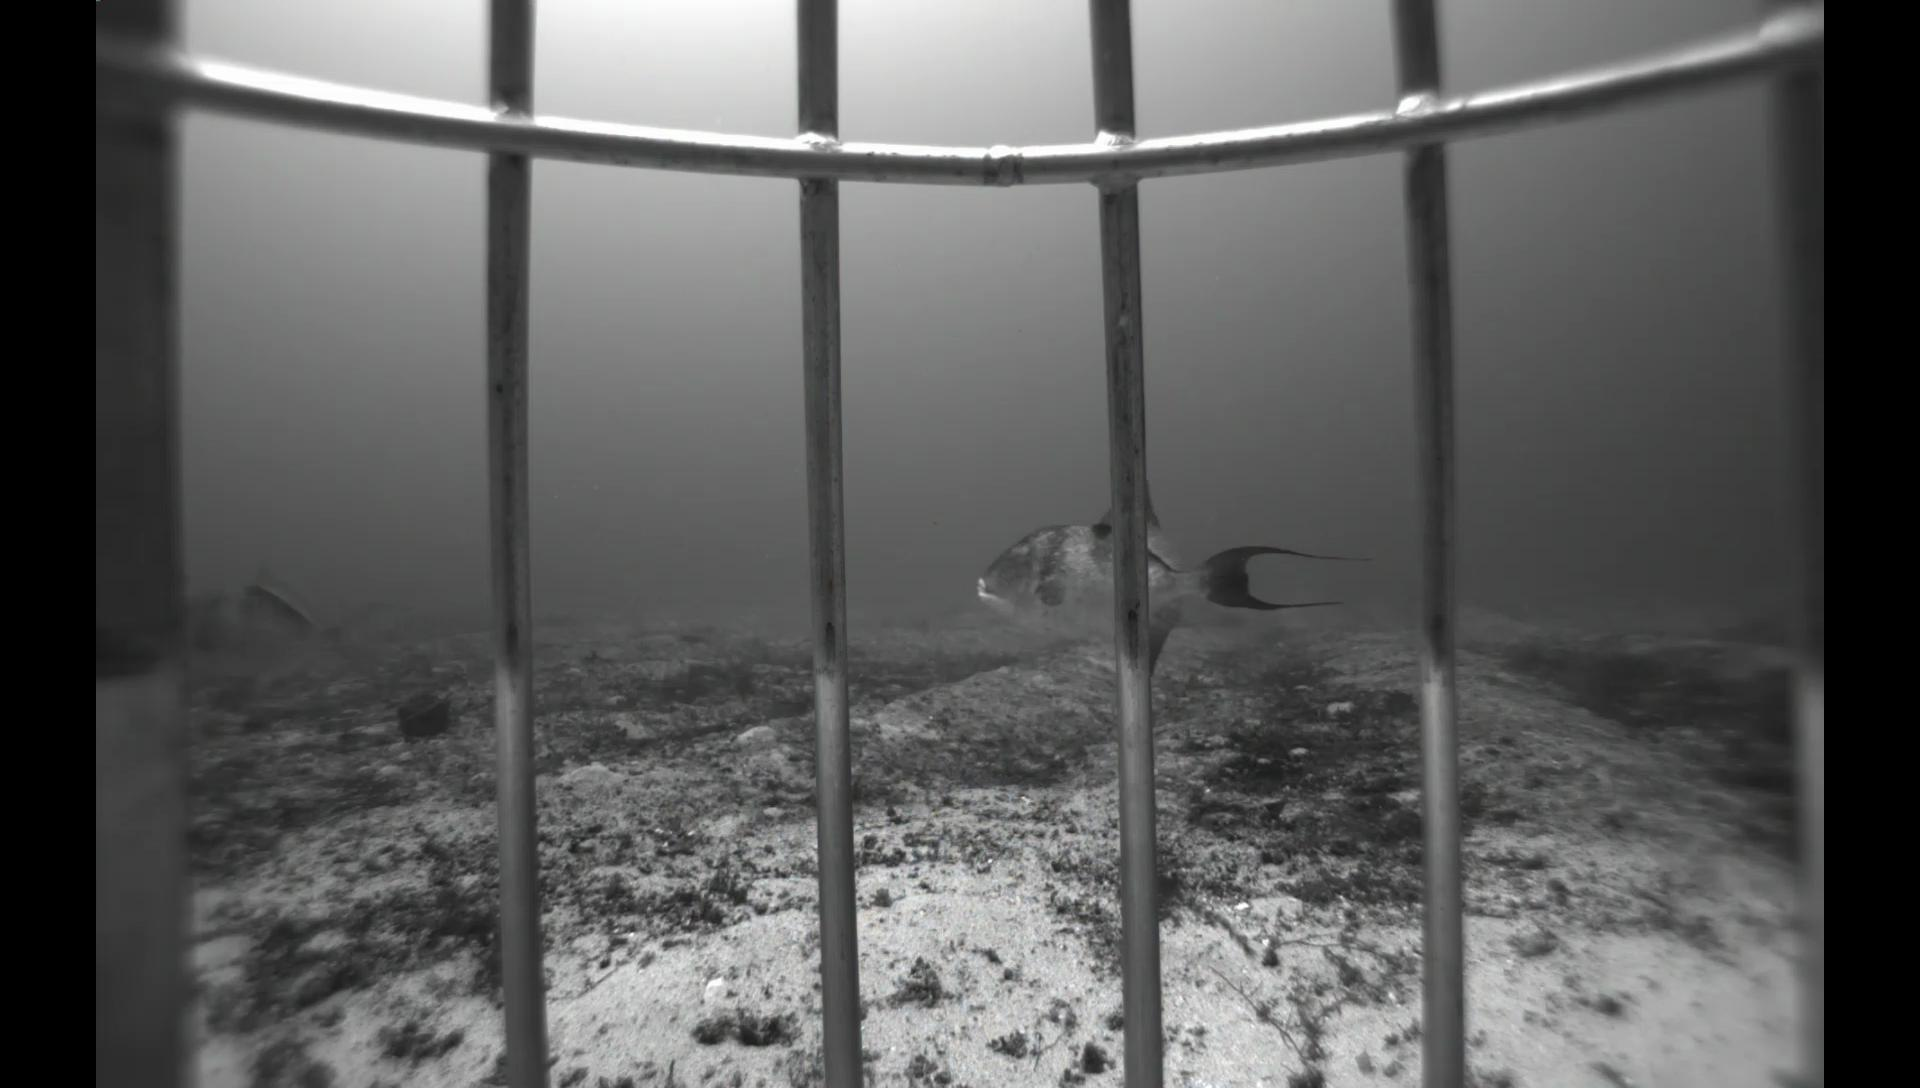BALISTESCAPRISCUS-189030502: (964, 476, 1371, 686), (181, 545, 435, 708)
